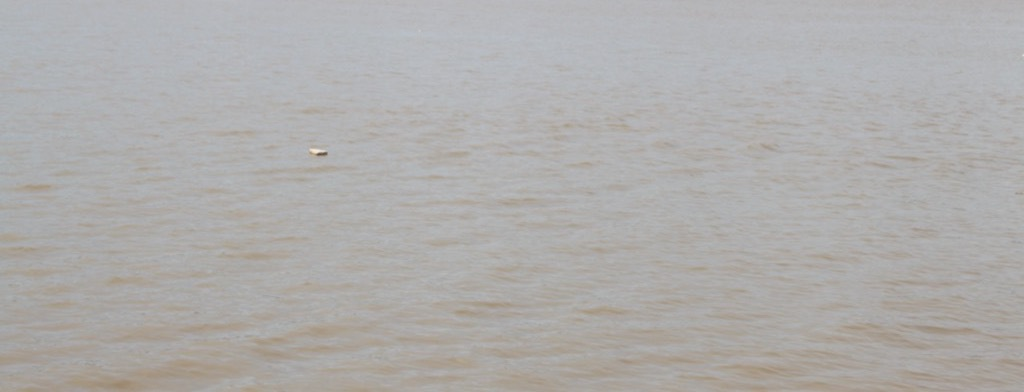plastic: (295, 132, 350, 172)
